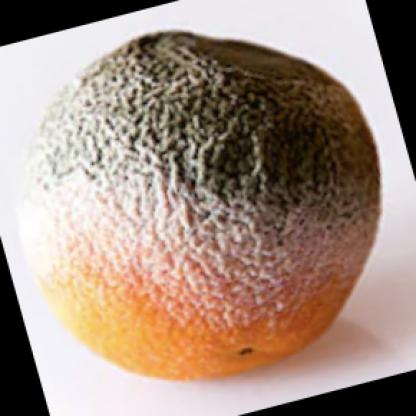rotten_orange: (24, 21, 380, 380)
